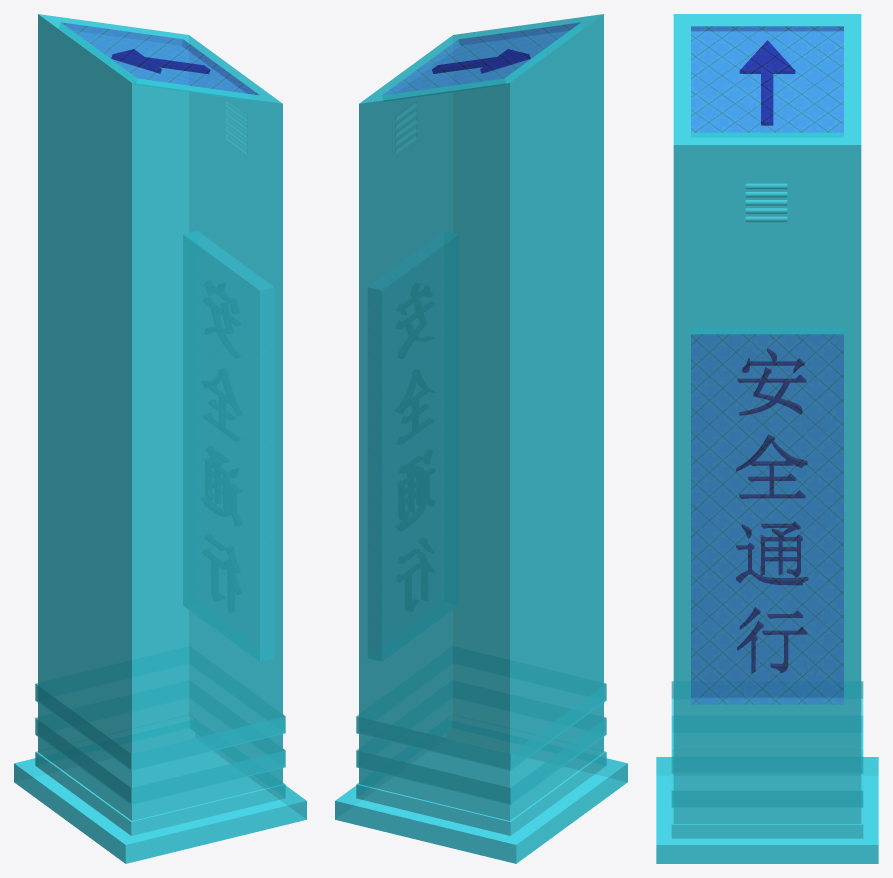
File: stand_column.obj
3 renders of one model, left to right at view 1: azimuth 30°, elevation 25°; view 2: azimuth 150°, elevation 25°; view 3: azimuth 270°, elevation 25°, orthographic.
Parts seen in each view (by area): view 1: Mesh1 Group1 Model, Mesh14 Model, Mesh13 Model; view 2: Mesh1 Group1 Model, Mesh14 Model, Mesh13 Model; view 3: Mesh1 Group1 Model, Mesh15 Model, Mesh14 Model, Mesh13 Model, Mesh5 ________1_1 Model, Mesh6 ________1_1 Model, Mesh2 ________1_1 Model, Mesh8 ________1_1 Model, Mesh10 ________1_1 Model.
Boxes of the visible parts, <box> form: Mesh1 Group1 Model: <box>14,14,306,863</box>; Mesh14 Model: <box>61,22,258,95</box>; Mesh13 Model: <box>111,49,209,74</box>; Mesh1 Group1 Model: <box>335,14,627,863</box>; Mesh14 Model: <box>383,22,580,95</box>; Mesh13 Model: <box>432,49,530,73</box>; Mesh1 Group1 Model: <box>656,14,878,863</box>; Mesh15 Model: <box>691,334,843,704</box>; Mesh14 Model: <box>691,26,843,132</box>; Mesh13 Model: <box>739,40,795,125</box>; Mesh5 ________1_1 Model: <box>736,434,807,498</box>; Mesh6 ________1_1 Model: <box>760,521,802,577</box>; Mesh2 ________1_1 Model: <box>737,367,806,415</box>; Mesh8 ________1_1 Model: <box>736,543,808,585</box>; Mesh10 ________1_1 Model: <box>762,627,807,672</box>.
Bounding box in the file's own units: 30 × 122 × 32.
Materials: 4 (2 with a texture image).
